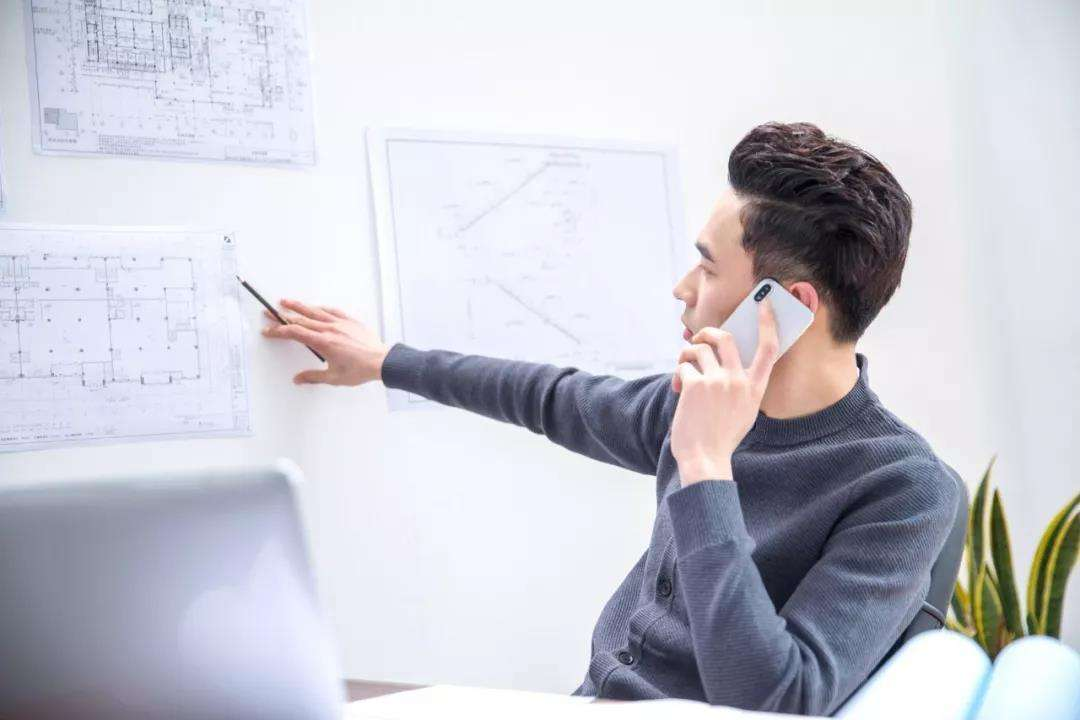calling: (665, 278, 819, 462)
